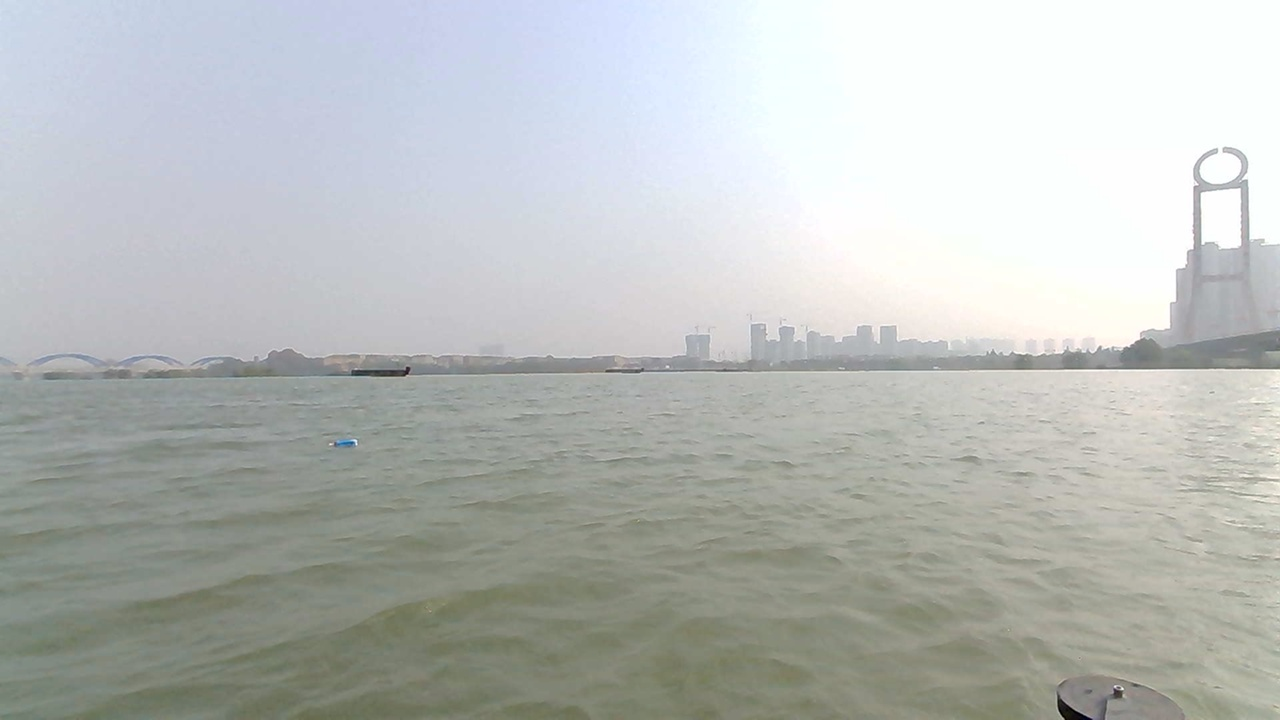bottle: (326, 434, 367, 454)
